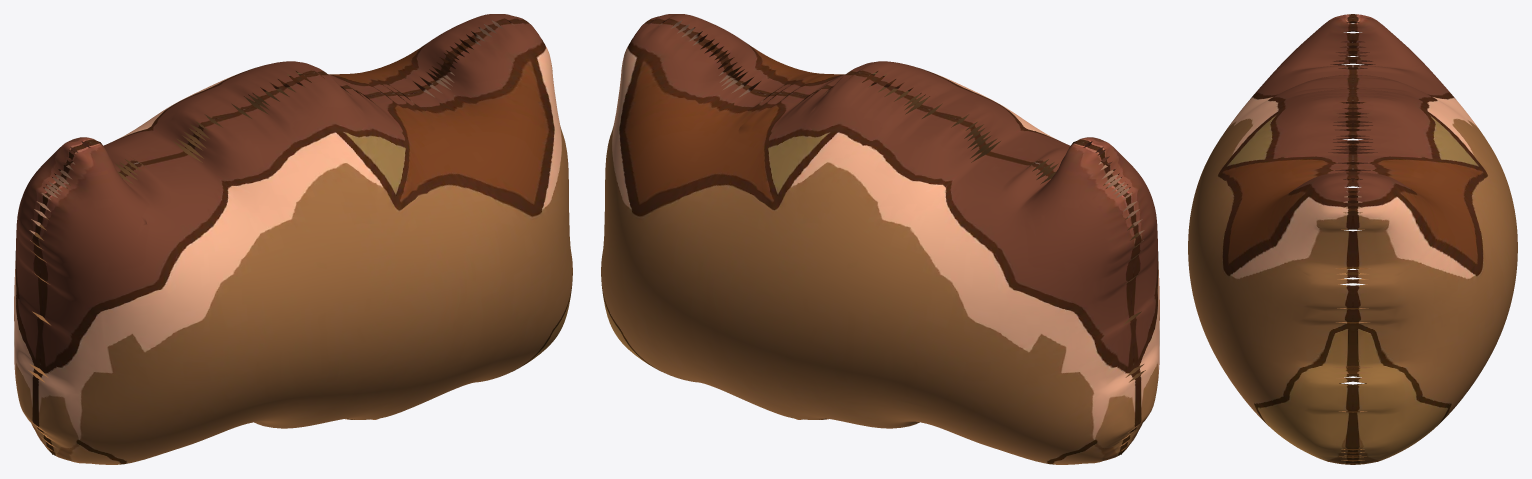
The model's file is rear_cliff.glb.
3 views of the same model, side by side, from view 1: azimuth 30°, elevation 25°; view 2: azimuth 150°, elevation 25°; view 3: azimuth 270°, elevation 25° (orthographic). The views are drawn at different scales.
Parts seen in each view (by area): view 1: rear_cliff; view 2: rear_cliff; view 3: rear_cliff.
Part boxes in pixels (<box>): rear_cliff: <box>14,14,572,464</box>; rear_cliff: <box>601,14,1159,464</box>; rear_cliff: <box>1188,14,1517,464</box>.
Bounding box in the file's own units: 0.989 × 0.6308 × 0.6312.
1 material, 1 textured.
